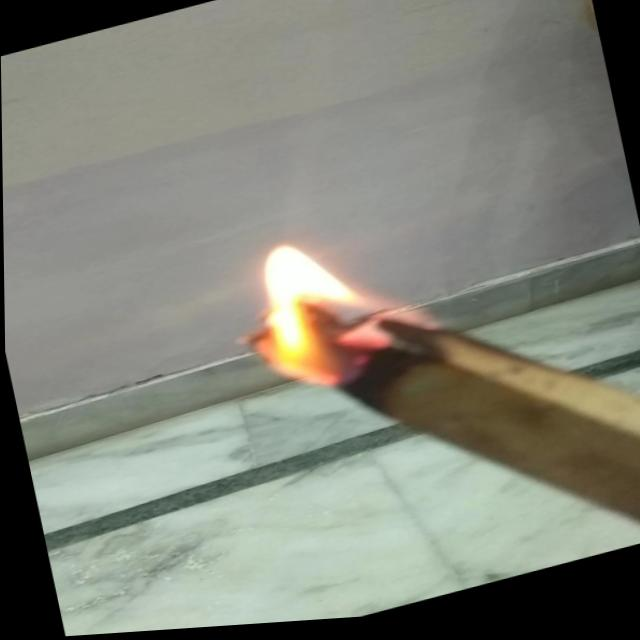fire: (219, 213, 431, 416)
